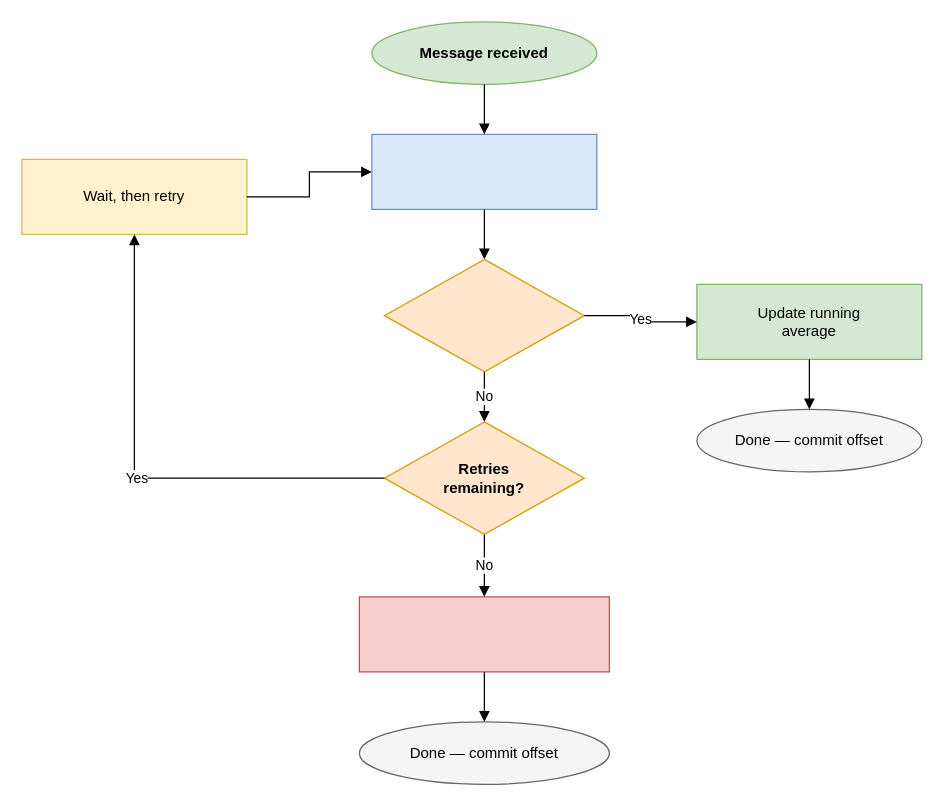
Some shapes in this 944 by 806 pixel diagram are drawn without their labels. Here are the shapes that lost their labels. From the top down, the centre of each, then its label:
At point 484,171: "Try to process message".
At point 483,315: "Success?".
At point 483,634: "Send to DLQ topic (orders-dlq)".
